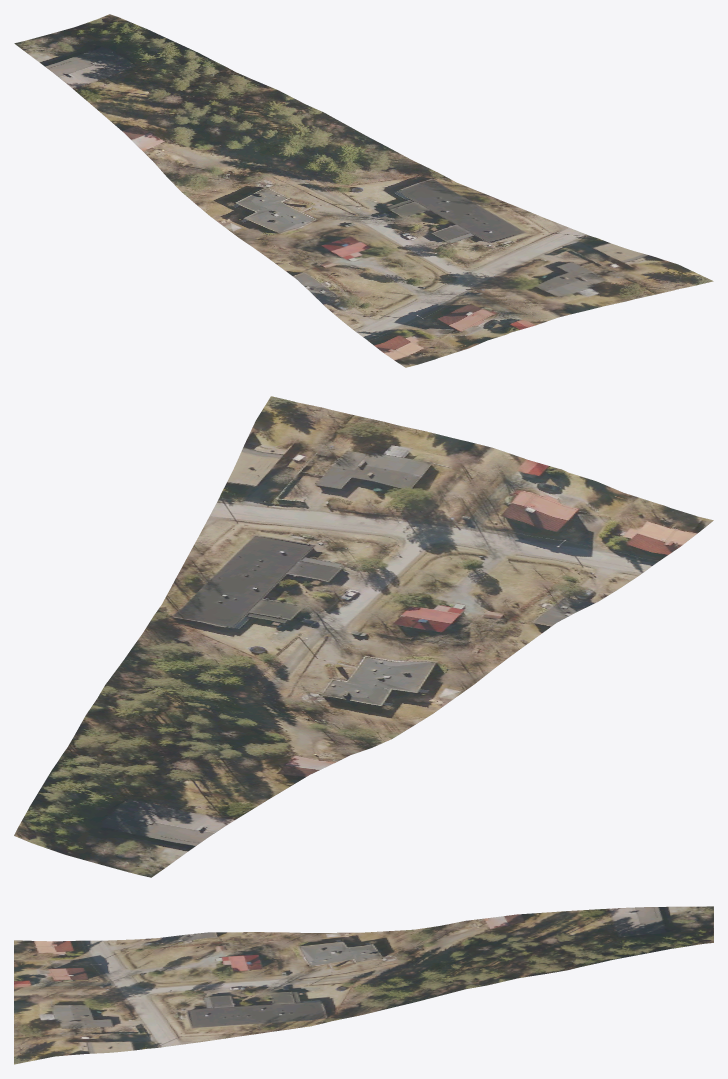
File: CM_Terrain_24491482_6821227.fbx
3 views of the same model, one above another, from view 1: azimuth 30°, elevation 25°; view 2: azimuth 150°, elevation 25°; view 3: azimuth 270°, elevation 25° (orthographic). The views are drawn at different scales.
Visible parts, largest first — view 1: CM_Terrain_24491482_6821227_LOD0; view 2: CM_Terrain_24491482_6821227_LOD0; view 3: CM_Terrain_24491482_6821227_LOD0.
Boxes of the visible parts, x1,y1,x2,y2 form: CM_Terrain_24491482_6821227_LOD0: [14, 14, 713, 367]; CM_Terrain_24491482_6821227_LOD0: [14, 396, 713, 877]; CM_Terrain_24491482_6821227_LOD0: [14, 906, 713, 1064].
Size of what is drawn, in the model's own units: 93.12 by 13.2 by 205.
